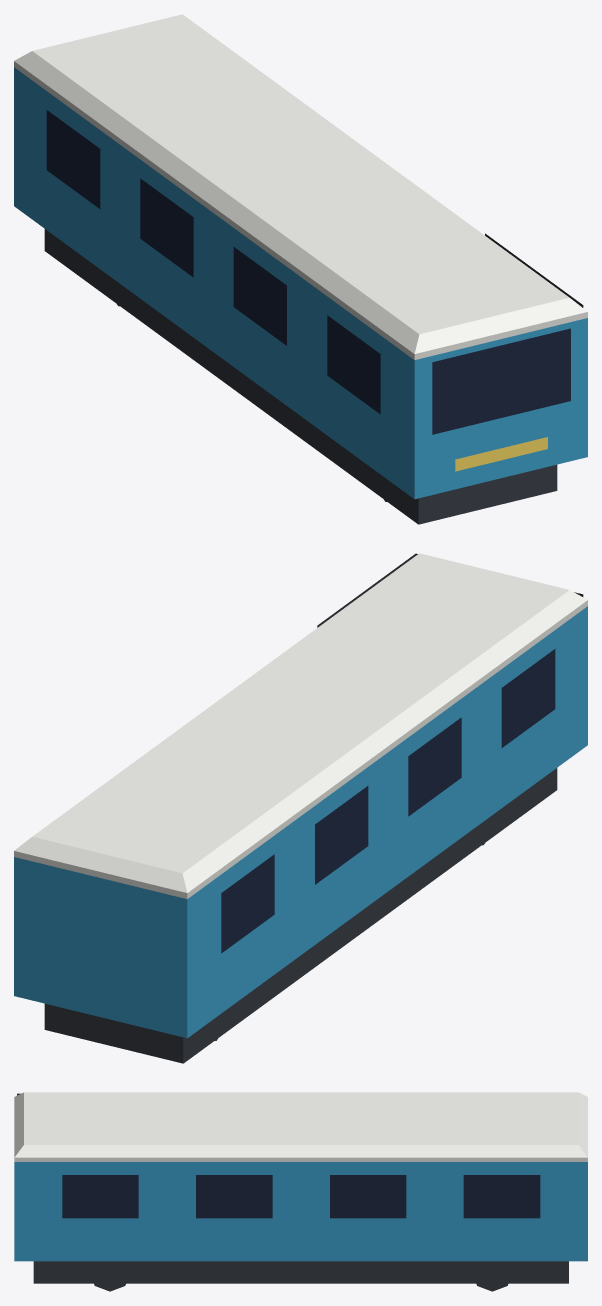
Rendered from train-proto.glb.
The picture shows the model from 3 angles, top to bottom: view 1: azimuth 30°, elevation 25°; view 2: azimuth 150°, elevation 25°; view 3: azimuth 270°, elevation 25°; orthographic projection. The views are drawn at different scales.
Visible parts, largest first — view 1: train-proto; view 2: train-proto; view 3: train-proto.
Part boxes in pixels (bbox=[...]): train-proto: bbox=[14, 14, 587, 524]; train-proto: bbox=[14, 553, 587, 1063]; train-proto: bbox=[14, 1092, 587, 1291].
Bounding box in the file's own units: 3.02 × 3.6 × 12.01.
